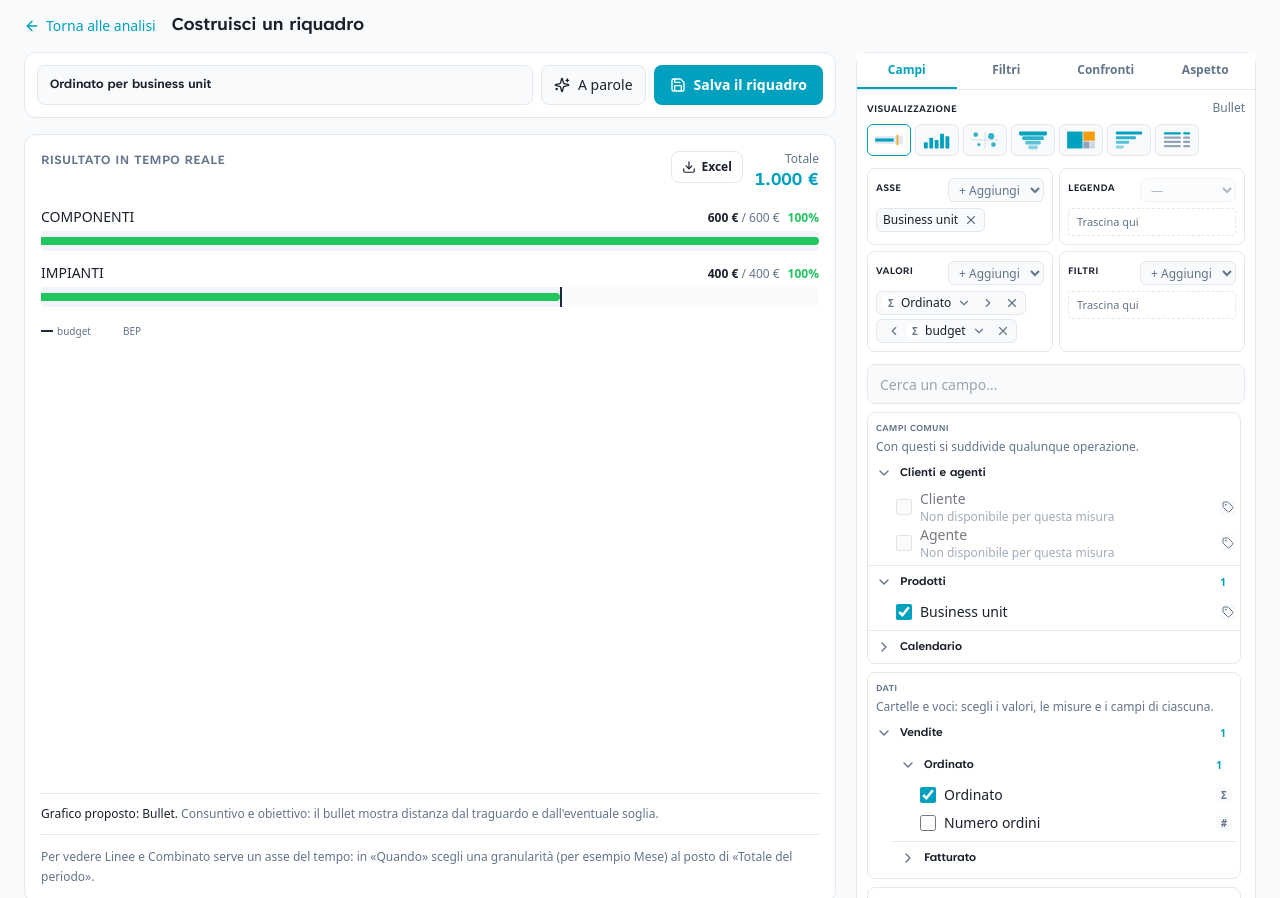
Test case: modifica a parole dentro l'editor › applicando, il riquadro ricalcola con le serie e i filtri nuovi, senza il budget
Click the button "A parole" at {"x": 593, "y": 85}, box [541,65,646,105]
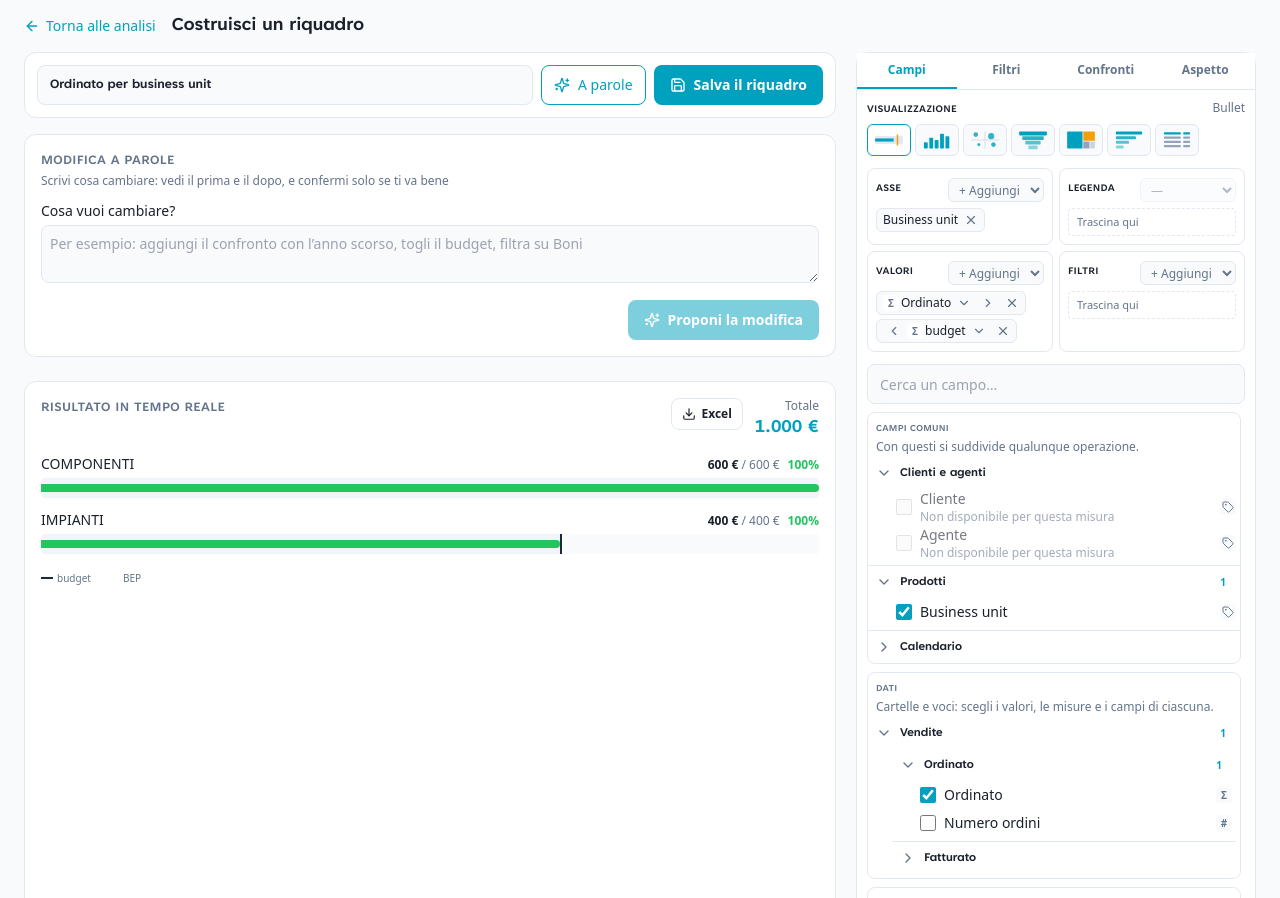
Replace the text in the text box labelled "Cosa vuoi cambiare?" with "aggiungi il confronto con l'anno scorso, togli il budget, filtra su Boni" at {"x": 430, "y": 254}, box [41,225,819,283]
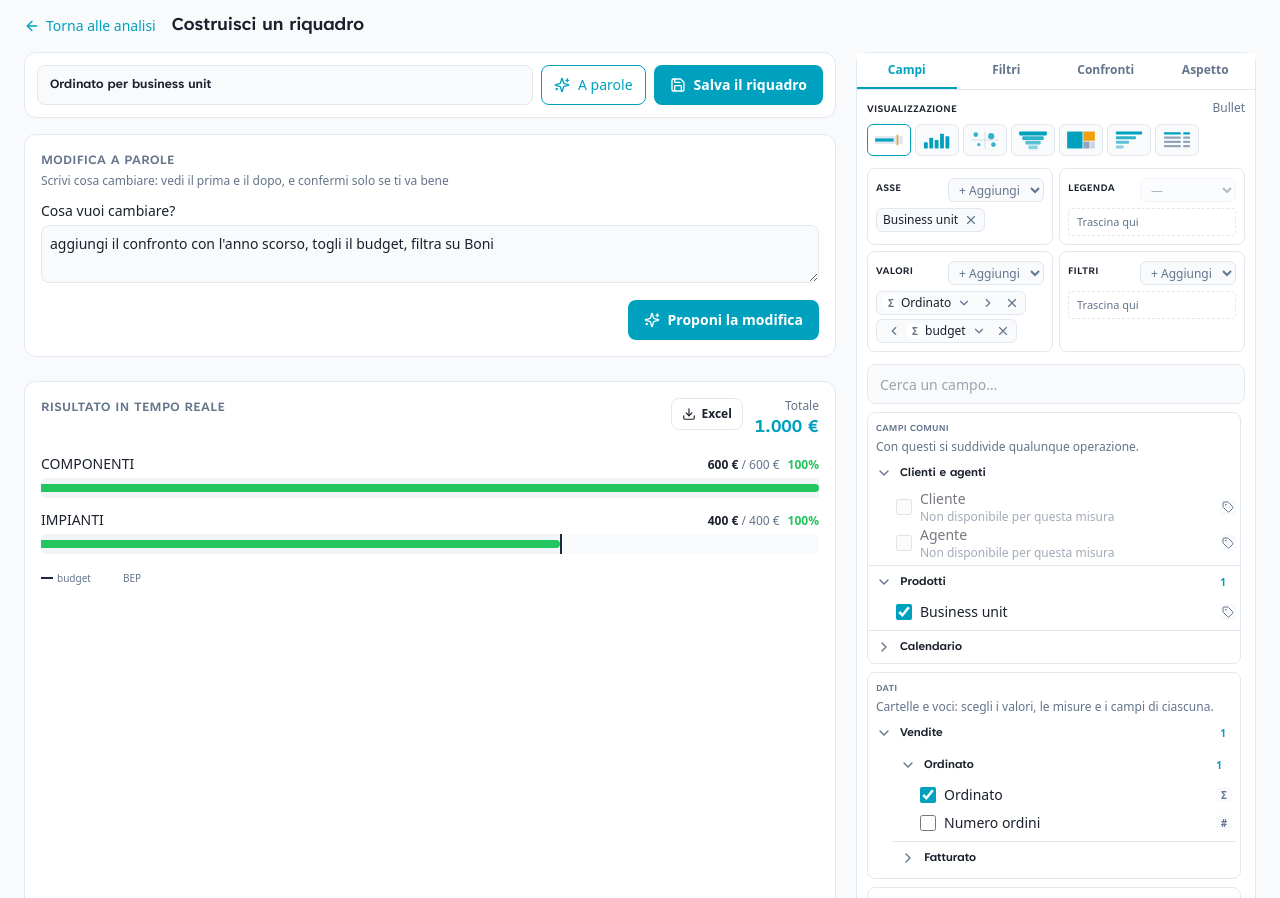
Click the button "Proponi la modifica" at {"x": 723, "y": 320}, box [628,300,819,340]
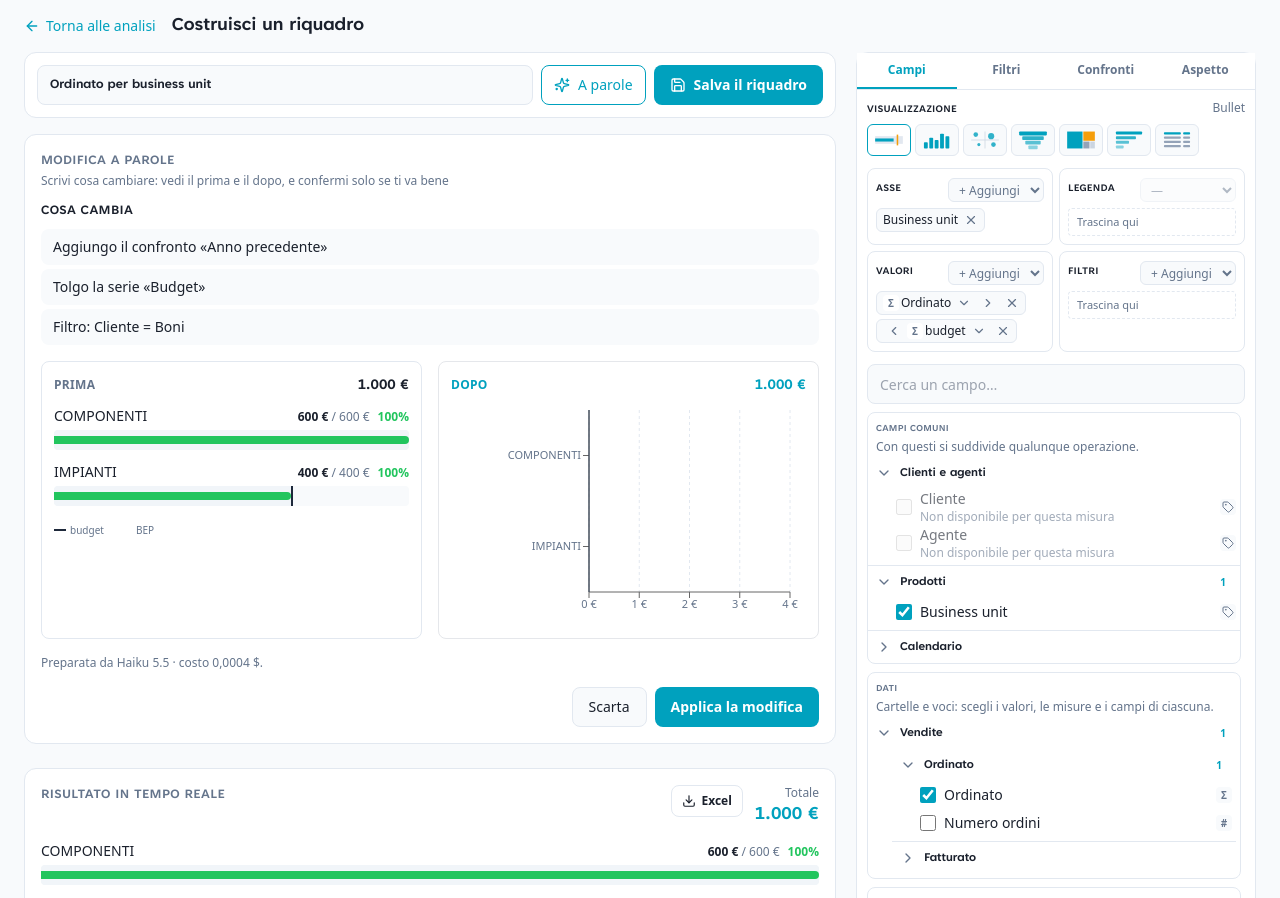
Click the button "Applica la modifica" at {"x": 737, "y": 707}, box [654,687,819,727]
Wait 400 ms
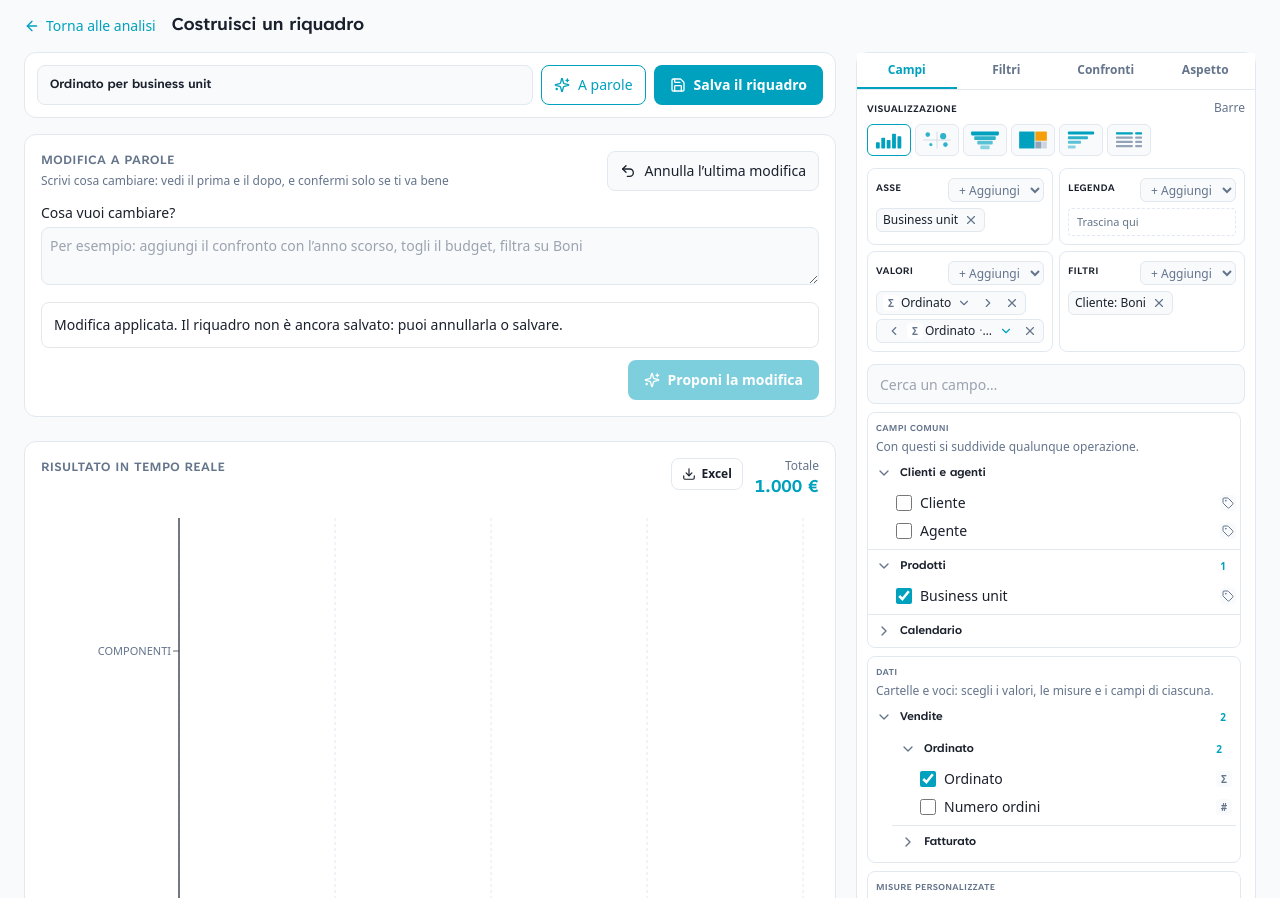
Expected: the button "Annulla l’ultima modifica" is shown, [607,151,819,191]
Expected: the text "Modifica applicata" is shown, [54,315,563,334]
